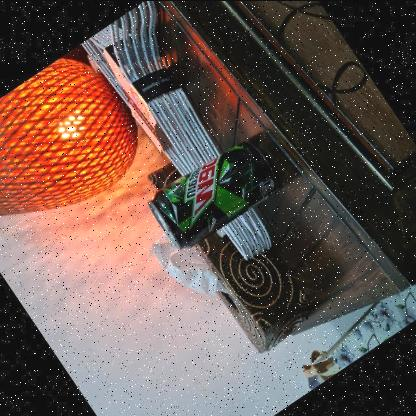Can: (148, 140, 280, 250)
